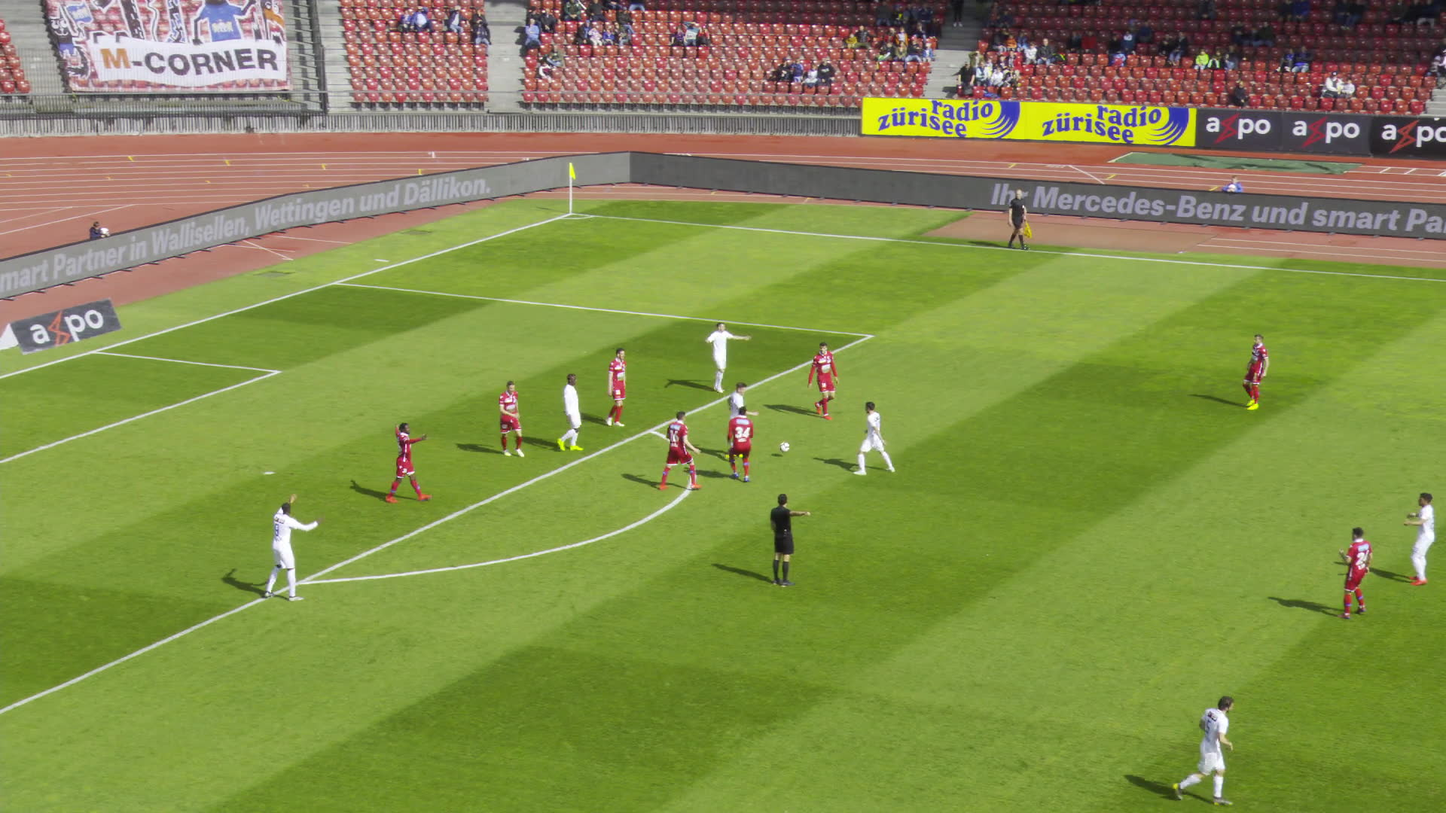ball: (779, 443, 789, 452)
player: (1176, 695, 1237, 802), (265, 497, 320, 599), (383, 423, 429, 502), (660, 410, 700, 491), (703, 321, 747, 392), (1340, 527, 1373, 617), (554, 373, 588, 452), (724, 404, 758, 482), (858, 400, 892, 476), (602, 349, 634, 428), (807, 341, 838, 419), (1240, 333, 1268, 410), (1408, 494, 1431, 584), (499, 381, 525, 457), (728, 386, 751, 464)
referee: (767, 493, 810, 587), (1006, 188, 1027, 248)
